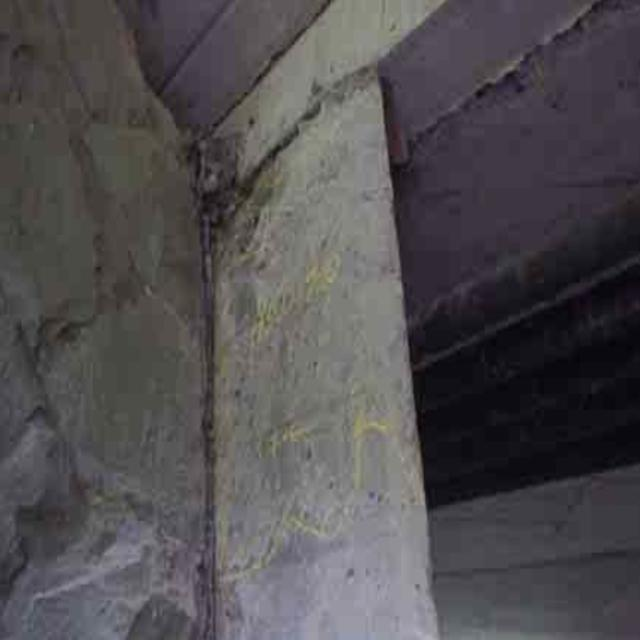spalling: (192, 90, 394, 553)
